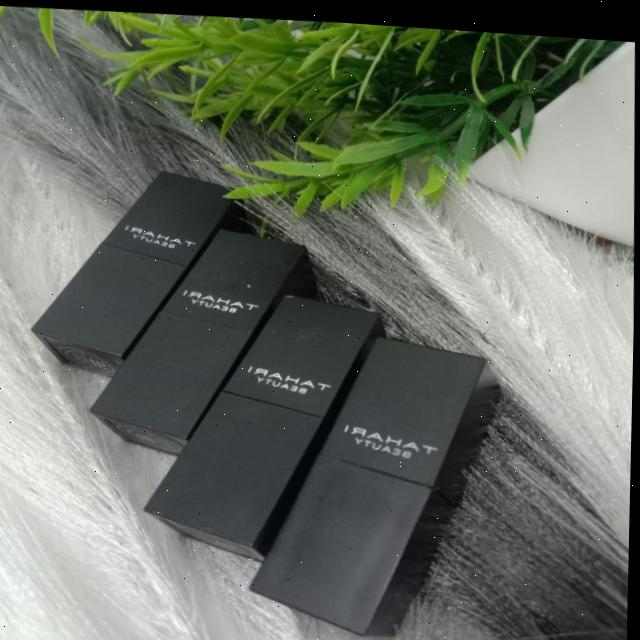lip stick: (15, 143, 494, 640), (234, 319, 508, 640), (143, 276, 393, 567), (81, 209, 311, 463), (18, 152, 244, 369)
